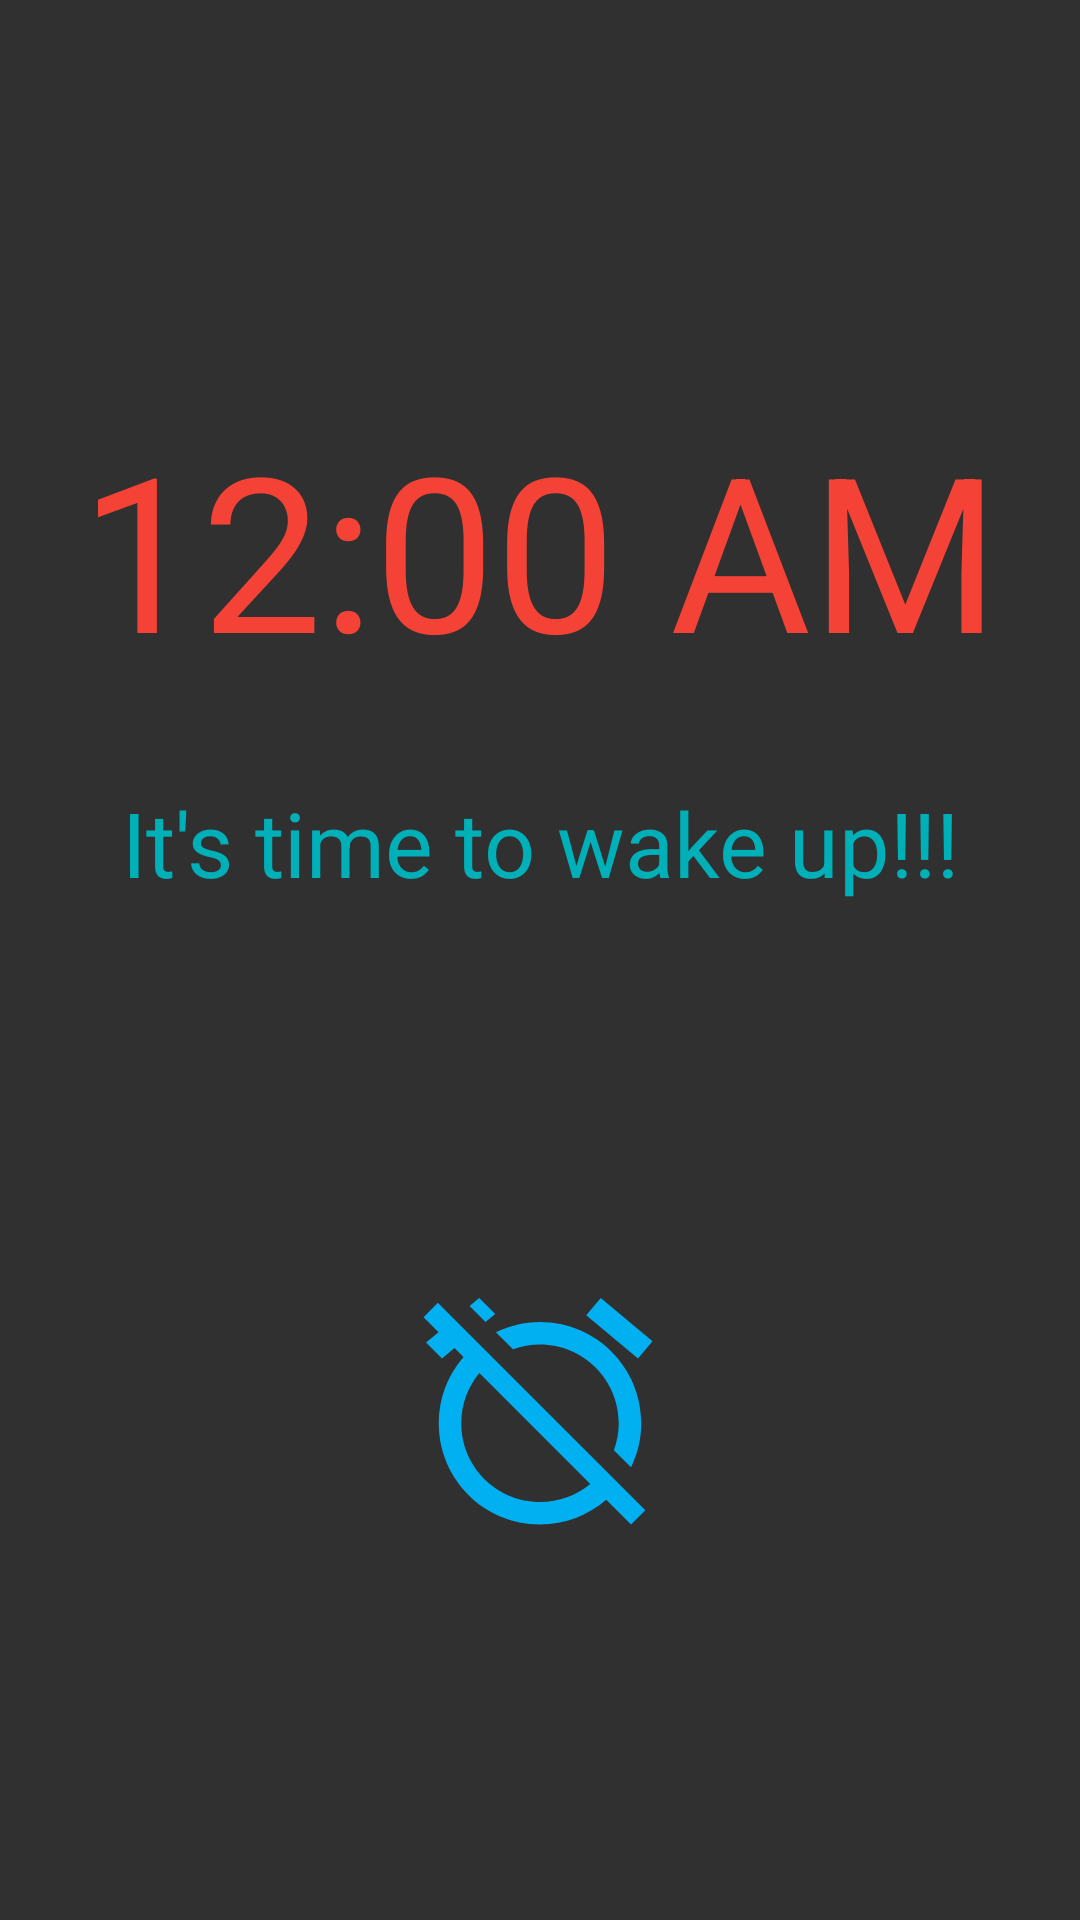

Icon click points for this 1080px x 1920px phone screenshot, format [x,y]:
alarm off: [538,1411]
